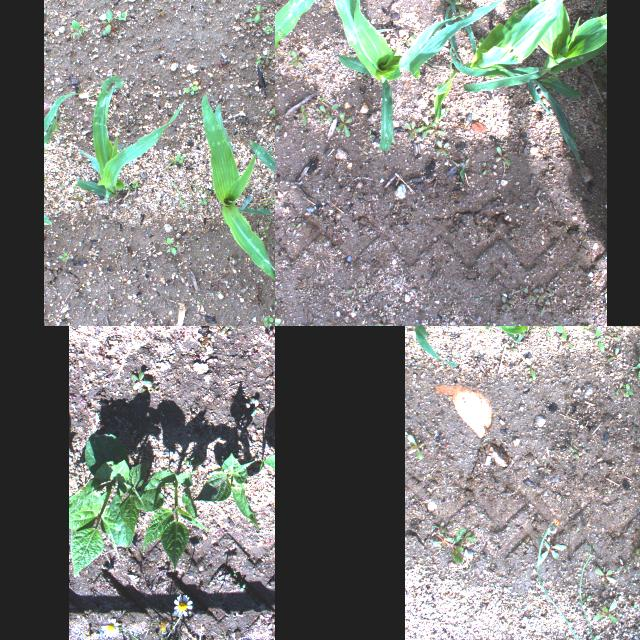crop: (310, 0, 518, 153), (444, 0, 606, 173), (429, 0, 568, 118), (200, 92, 275, 286), (68, 432, 164, 578), (74, 75, 184, 198), (142, 470, 212, 572), (192, 450, 264, 532), (43, 93, 79, 225), (248, 98, 275, 231), (275, 0, 330, 52), (404, 326, 456, 365), (263, 449, 275, 478)
weed: (537, 519, 640, 640), (100, 592, 194, 640), (430, 521, 476, 563), (538, 540, 566, 564), (592, 602, 618, 622), (451, 156, 469, 180), (128, 371, 152, 389), (406, 434, 424, 458), (336, 111, 352, 137), (245, 2, 265, 22), (318, 102, 339, 120), (184, 455, 204, 473), (404, 120, 421, 140), (101, 8, 113, 36), (595, 568, 615, 584), (598, 100, 606, 136), (422, 120, 438, 138), (496, 145, 510, 165), (344, 280, 364, 294), (250, 397, 264, 417), (630, 353, 640, 380), (523, 358, 537, 377), (296, 104, 308, 126), (594, 328, 604, 352), (260, 49, 274, 65), (436, 140, 450, 156), (290, 49, 302, 67), (442, 0, 465, 9), (375, 315, 393, 326), (617, 558, 631, 572), (608, 347, 622, 361), (560, 326, 575, 339), (71, 20, 83, 36), (538, 460, 550, 476), (166, 236, 176, 254), (182, 84, 198, 95), (501, 296, 515, 308), (526, 288, 540, 300), (560, 336, 574, 348), (539, 298, 549, 314), (594, 57, 604, 73), (596, 76, 606, 92), (604, 334, 620, 344), (173, 152, 184, 166), (57, 250, 69, 262), (559, 220, 571, 232), (404, 34, 416, 46), (318, 1, 330, 13), (538, 288, 550, 300), (427, 128, 445, 136), (290, 221, 300, 235), (513, 284, 527, 294), (217, 326, 237, 333), (623, 382, 633, 396), (264, 23, 274, 35), (262, 316, 274, 326), (117, 10, 127, 22), (634, 536, 640, 556), (504, 342, 516, 352), (314, 114, 324, 125), (201, 332, 211, 343), (609, 327, 619, 338), (544, 326, 562, 332), (366, 129, 376, 139), (581, 595, 591, 605), (482, 158, 488, 174), (196, 341, 204, 353), (198, 197, 208, 206), (585, 634, 599, 640), (523, 326, 532, 335), (358, 146, 368, 154), (258, 56, 264, 68), (294, 322, 312, 326), (616, 382, 622, 394), (130, 180, 138, 188), (238, 583, 246, 591), (256, 55, 262, 65), (148, 386, 158, 392), (546, 328, 552, 338), (275, 45, 280, 56), (275, 317, 281, 326), (270, 107, 275, 115), (316, 96, 326, 100), (573, 454, 583, 458), (589, 212, 595, 218), (275, 124, 279, 132), (522, 293, 526, 301), (528, 376, 536, 380), (481, 326, 491, 329), (512, 320, 516, 326), (600, 306, 606, 310), (275, 299, 277, 307), (570, 447, 574, 451), (619, 326, 626, 328)
